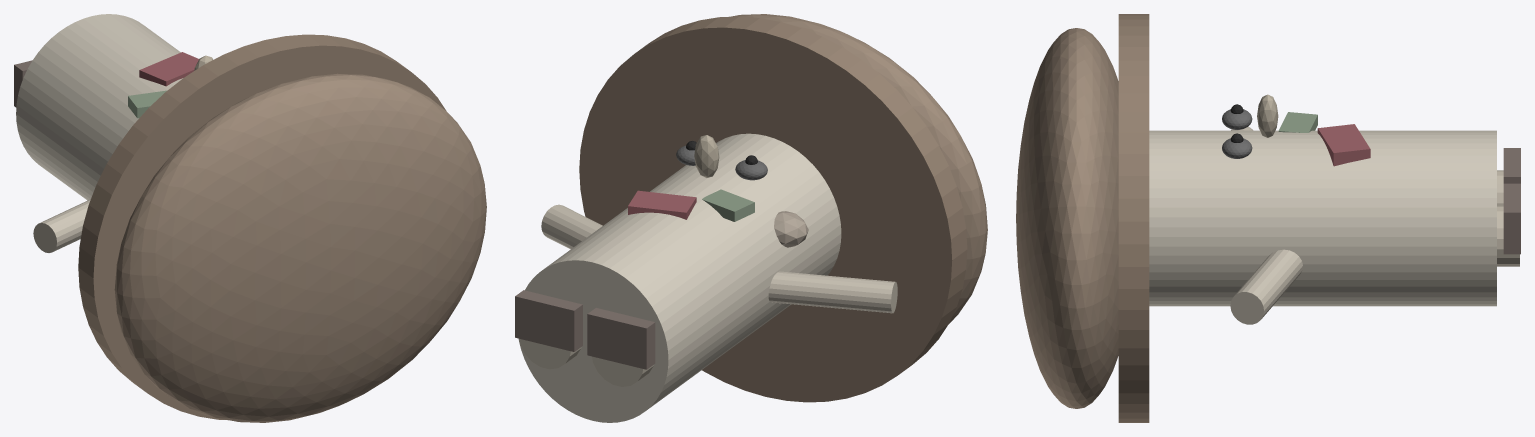
Rendered from eringi_human.glb.
3 views of the same model, side by side, from view 1: azimuth 30°, elevation 25°; view 2: azimuth 150°, elevation 25°; view 3: azimuth 270°, elevation 25° (orthographic).
Parts seen in each view (by area): view 1: world; view 2: world; view 3: world.
Boxes of the visible parts, left/top/right/bottom form: world: left=14, top=14, right=486, bottom=422; world: left=515, top=14, right=987, bottom=422; world: left=1016, top=14, right=1520, bottom=422.
Bounding box in the file's own units: 1.13 × 1.06 × 1.32.
